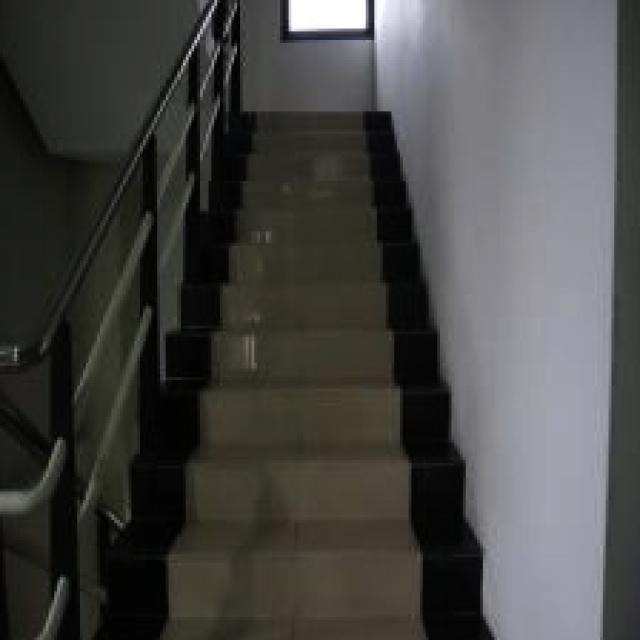upstair: (155, 106, 446, 640)
